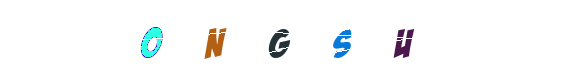0: (124, 0, 204, 80)
G: (253, 0, 333, 80)
N: (192, 0, 272, 80)
S: (264, 0, 344, 80)
U: (299, 0, 379, 80)
